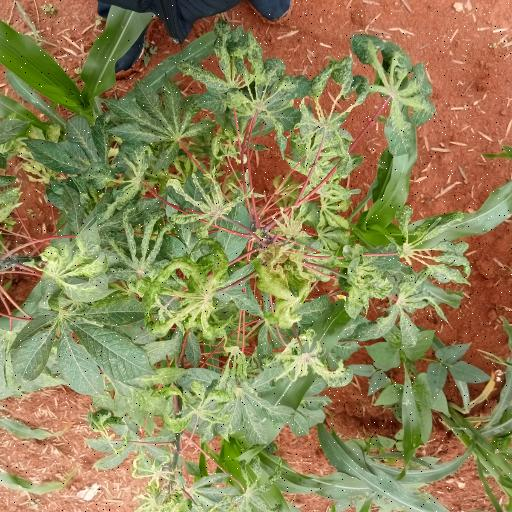Cassava_Mosaic: (13, 296, 151, 396), (192, 26, 310, 137), (352, 30, 436, 155), (114, 80, 211, 166), (165, 172, 238, 230), (273, 338, 344, 394), (114, 224, 168, 296)
